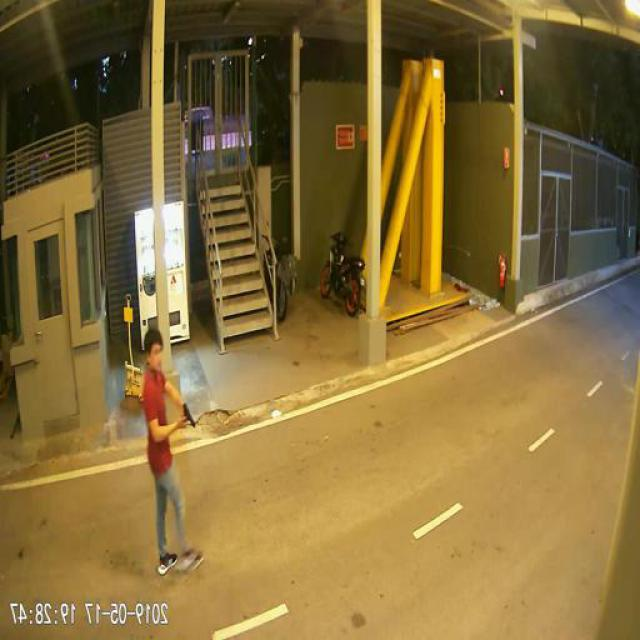Gun: (184, 398, 198, 426)
